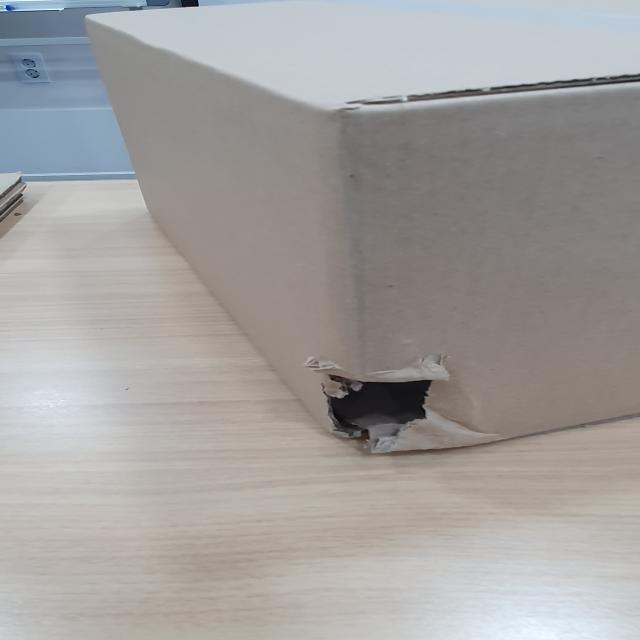hole: (307, 368, 469, 444)
